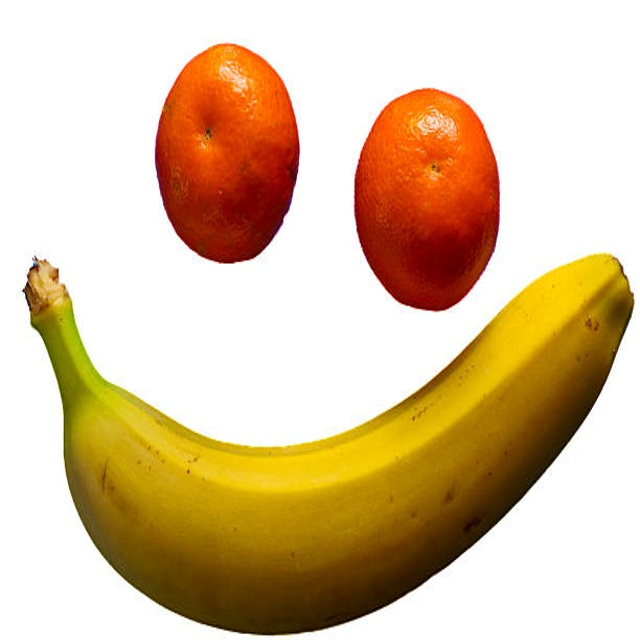banana: (2, 252, 640, 640)
orange: (143, 34, 312, 264), (346, 80, 497, 313)
